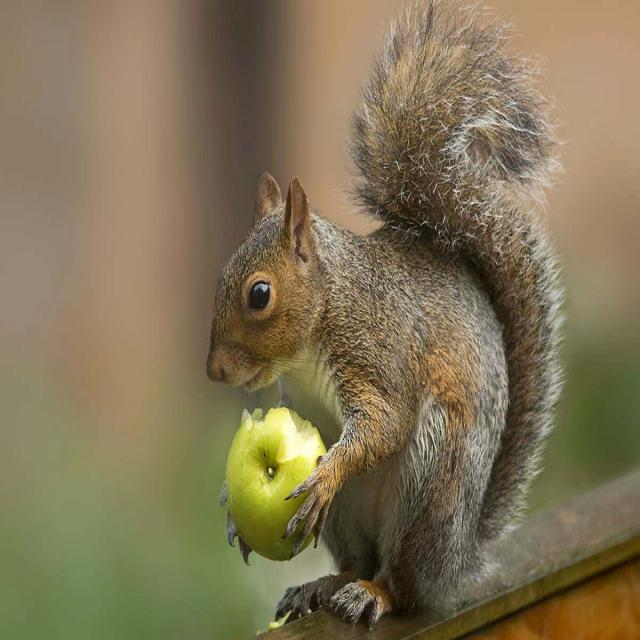squirrel: (207, 0, 564, 622)
